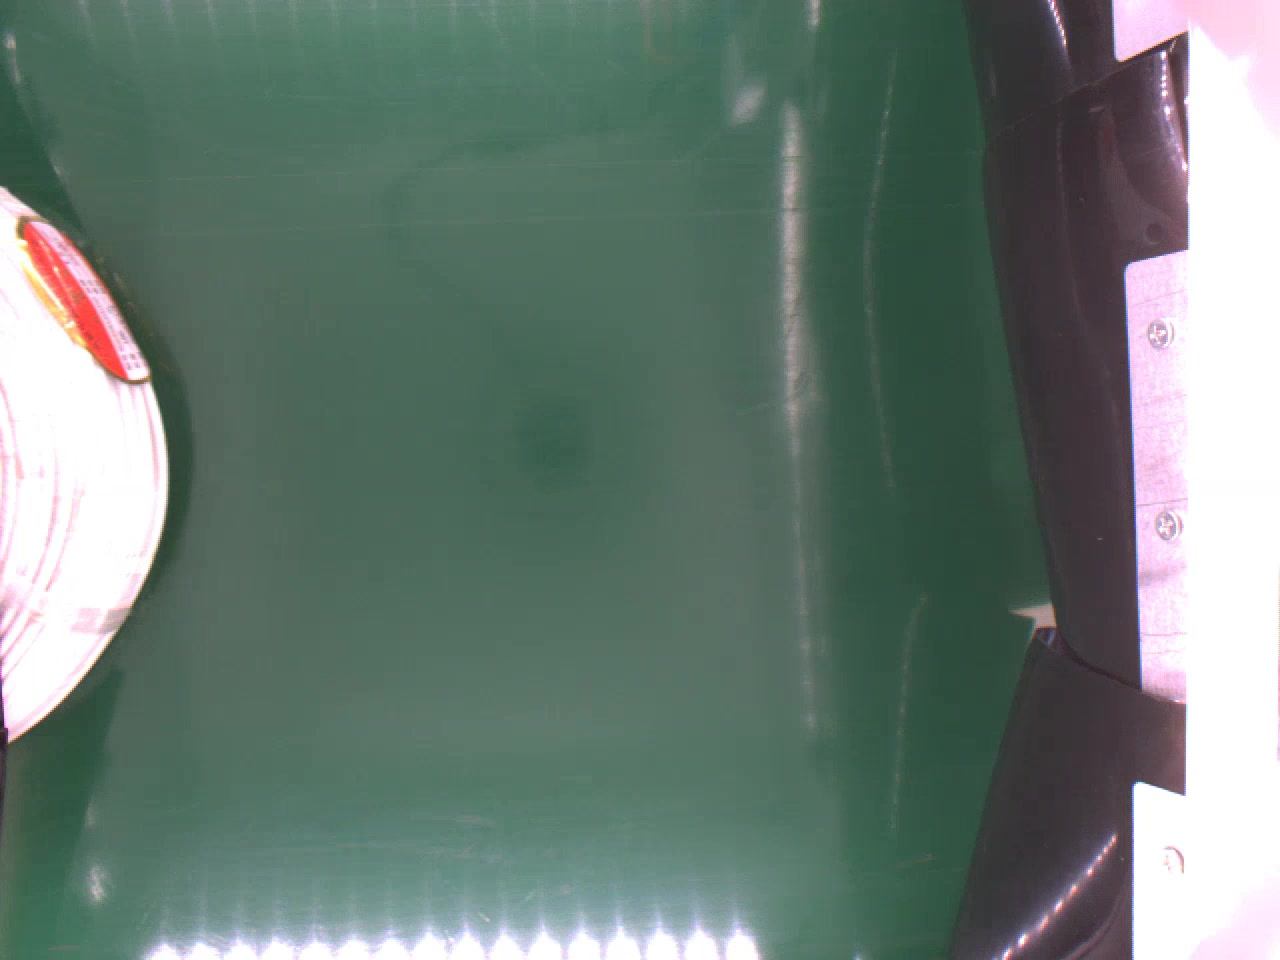white: (0, 182, 180, 746)
